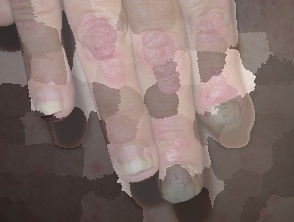Nail_psoriasis: (142, 142, 215, 217), (202, 71, 250, 138), (22, 74, 75, 127), (111, 136, 158, 180)
